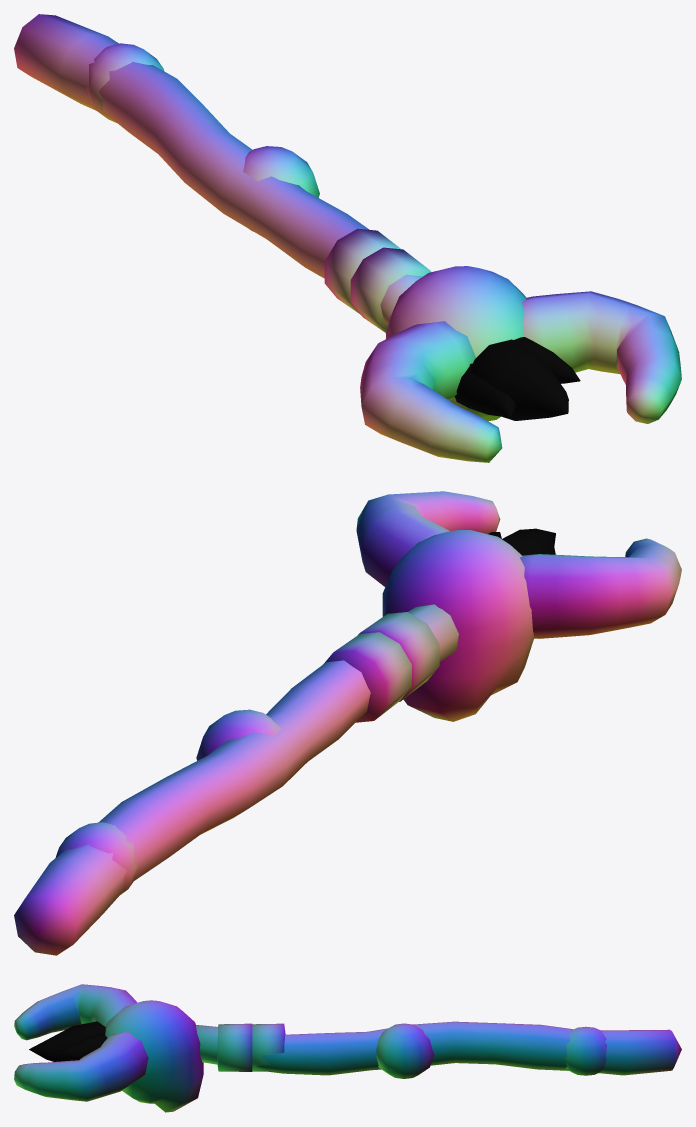
The model's file is SM_Mon_GoblinShaman_Totem.fbx.
3 renders of one model, top to bottom at view 1: azimuth 30°, elevation 25°; view 2: azimuth 150°, elevation 25°; view 3: azimuth 270°, elevation 25°, orthographic. The views are drawn at different scales.
Visible parts, largest first — view 1: SM_Mon_GoblinShaman_Totem; view 2: SM_Mon_GoblinShaman_Totem; view 3: SM_Mon_GoblinShaman_Totem.
Part boxes in pixels (x1,y1,x2,y2): SM_Mon_GoblinShaman_Totem: [14, 14, 681, 462]; SM_Mon_GoblinShaman_Totem: [14, 491, 681, 955]; SM_Mon_GoblinShaman_Totem: [14, 984, 681, 1112].
Size of the model in its own units: 0.3087 by 0.1595 by 0.9272.
